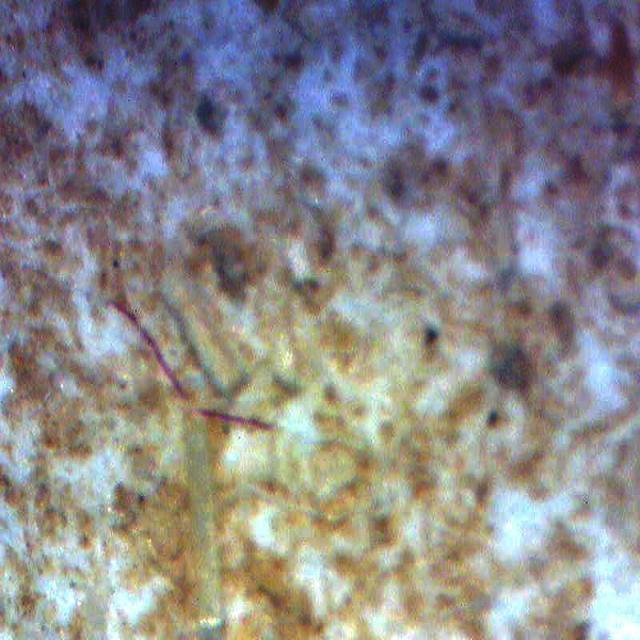microplastic: (109, 296, 270, 431)
